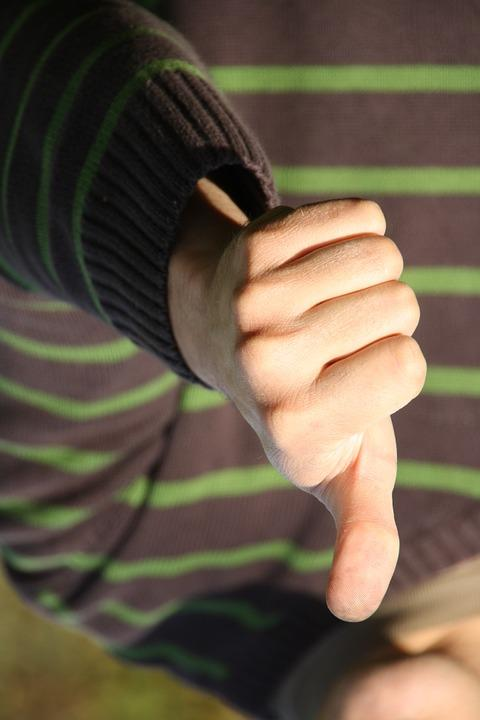thumbsdown: (228, 197, 429, 623)
